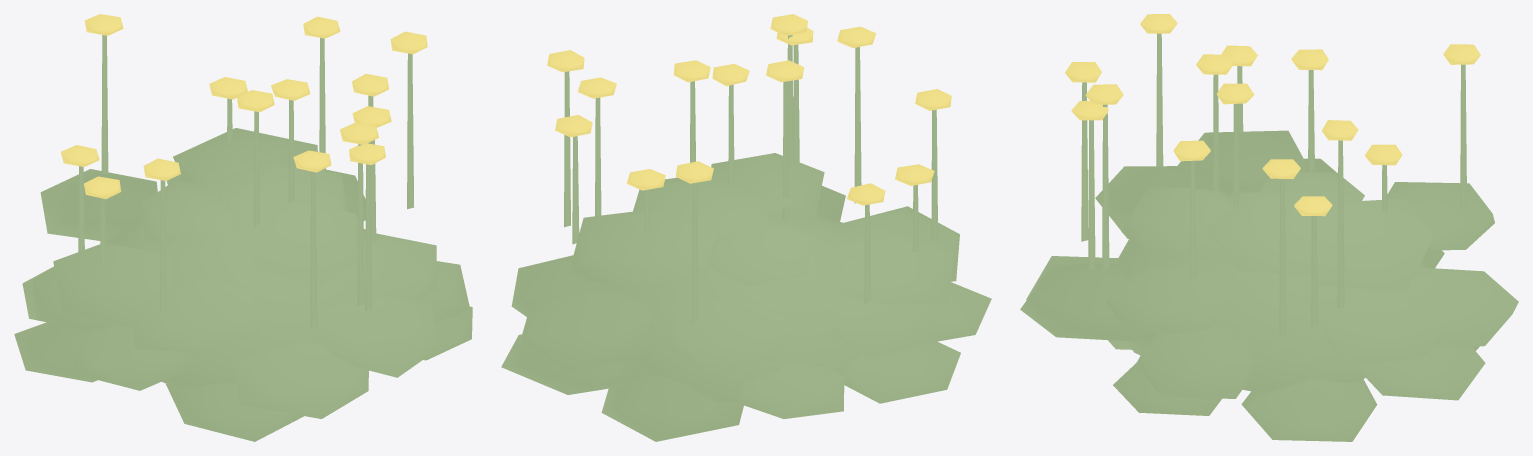
File: Blender_Brittlebush_2.glb
The picture shows the model from 3 angles, left to right: view 1: azimuth 30°, elevation 25°; view 2: azimuth 150°, elevation 25°; view 3: azimuth 270°, elevation 25°; orthographic projection. The views are drawn at different scales.
Parts seen in each view (by area): view 1: Blender_Brittlebush_2; view 2: Blender_Brittlebush_2; view 3: Blender_Brittlebush_2.
Boxes of the visible parts, x1,y1,x2,y2 form: Blender_Brittlebush_2: (14,14,472,441); Blender_Brittlebush_2: (501,14,991,441); Blender_Brittlebush_2: (1020,14,1518,441).
Bounding box in the file's own units: 0.7765 × 0.5574 × 0.8238.
